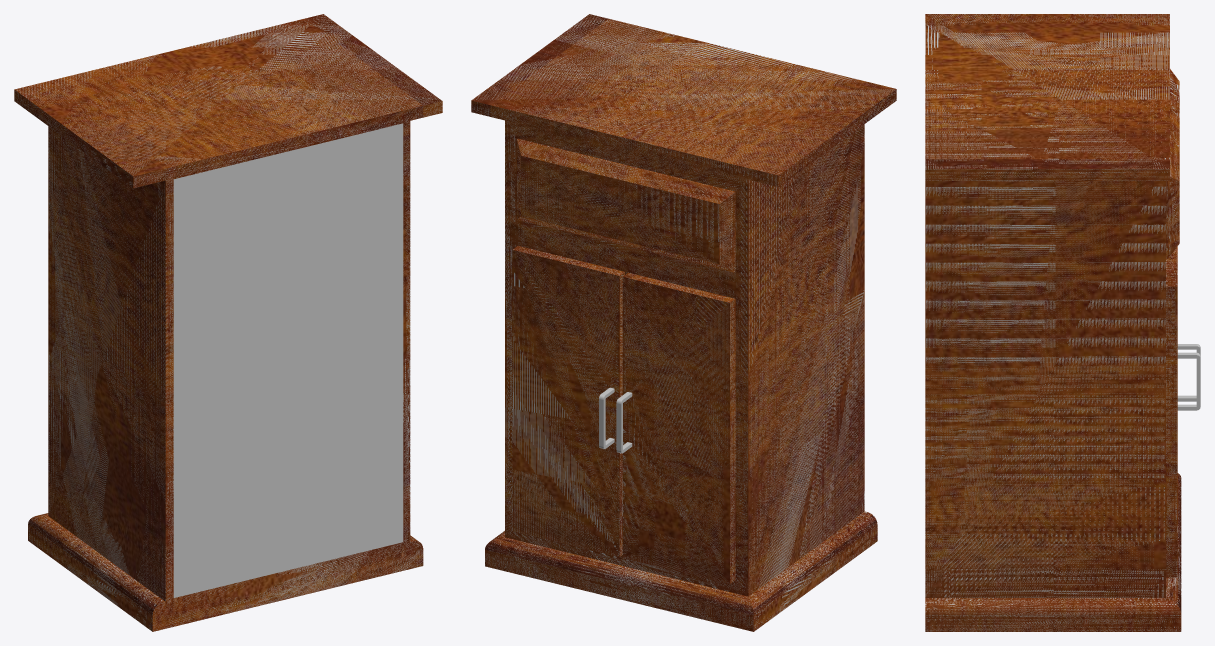
3 views of the same model, side by side, from view 1: azimuth 30°, elevation 25°; view 2: azimuth 150°, elevation 25°; view 3: azimuth 270°, elevation 25° (orthographic). The views are drawn at different scales.
Parts seen in each view (by area): view 1: mesh1_mesh1-geometry; view 2: mesh1_mesh1-geometry; view 3: mesh1_mesh1-geometry.
Boxes of the visible parts, x1,y1,x2,y2 form: mesh1_mesh1-geometry: (14, 14, 442, 631); mesh1_mesh1-geometry: (471, 14, 896, 631); mesh1_mesh1-geometry: (925, 14, 1200, 631).
Bounding box in the file's own units: 0.5282 × 0.751 × 0.3962.
